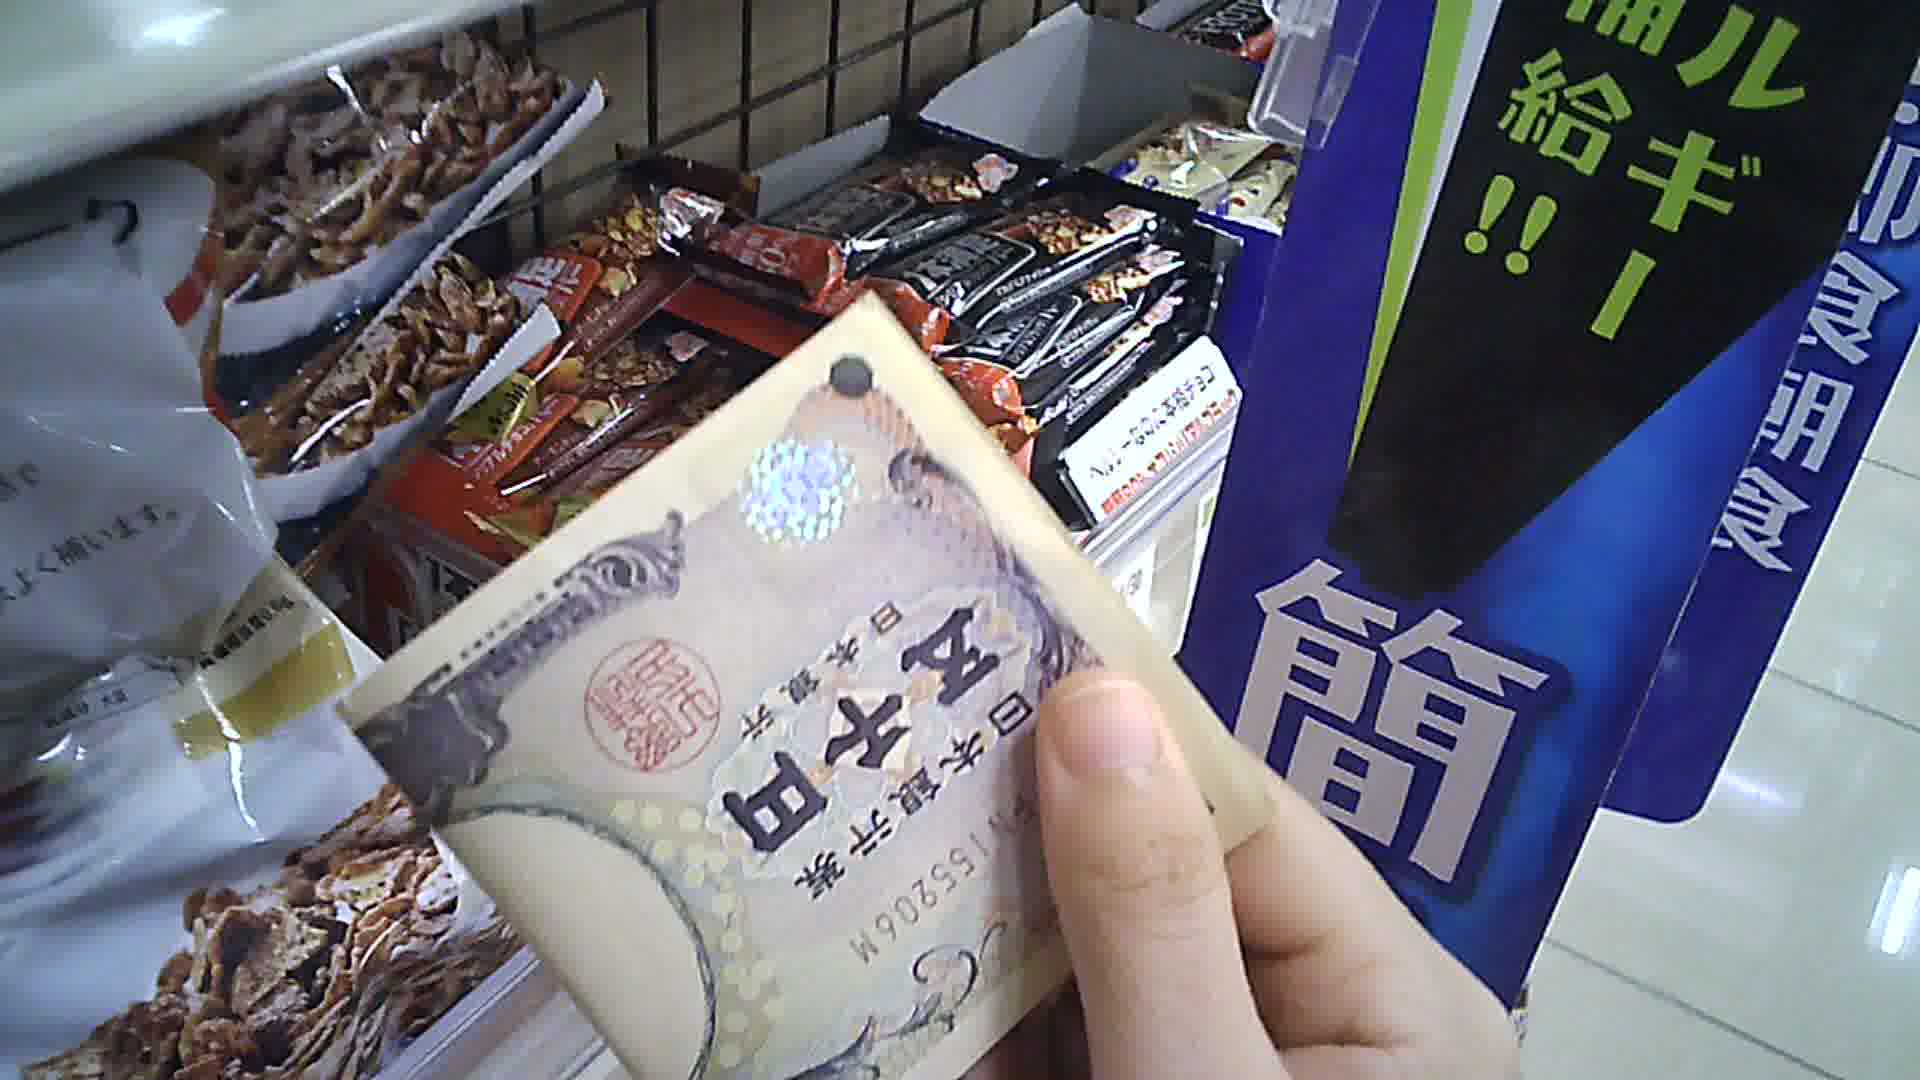5,000 Yen: (305, 302, 1215, 1068)
